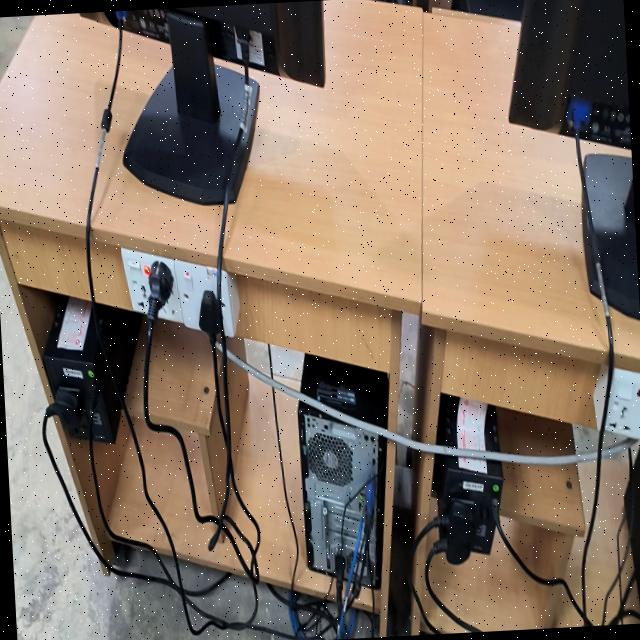Chair: (451, 0, 523, 20)
Cpu: (297, 401, 385, 587), (301, 355, 387, 423), (624, 448, 640, 611)
Monitor: (508, 0, 640, 319), (122, 0, 323, 204)
